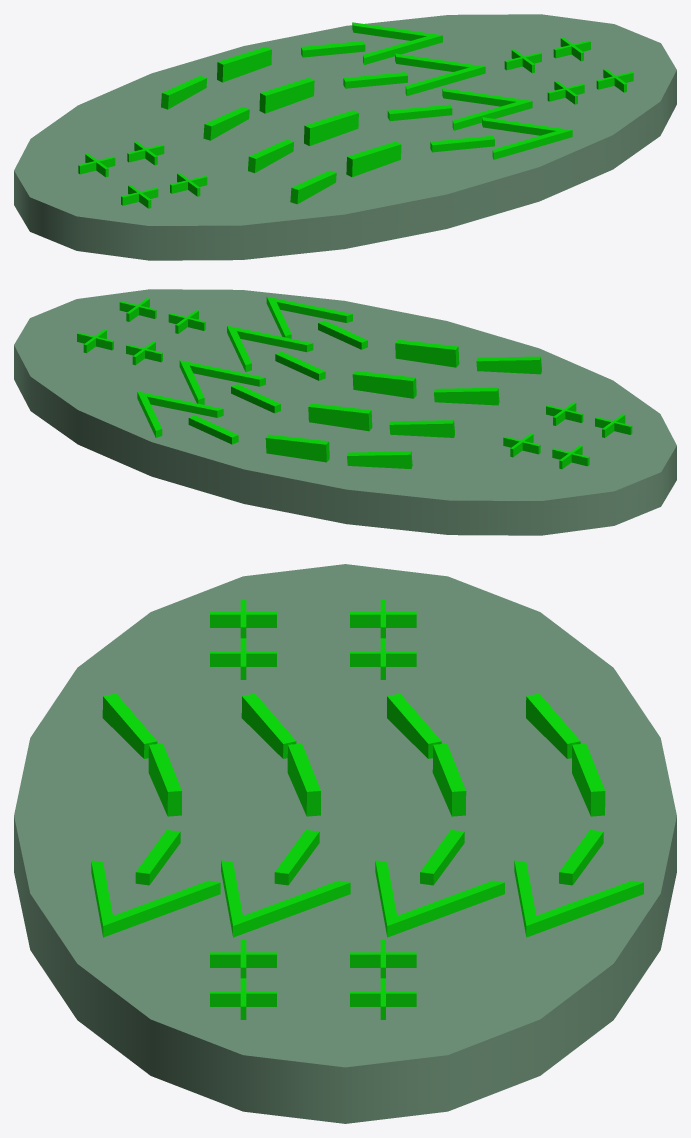
Rendered from dashUpObj.fbx.
The picture shows the model from 3 angles, top to bottom: view 1: azimuth 30°, elevation 25°; view 2: azimuth 150°, elevation 25°; view 3: azimuth 270°, elevation 25°; orthographic projection. The views are drawn at different scales.
Visible parts, largest first — view 1: dashUpObj; view 2: dashUpObj; view 3: dashUpObj.
Boxes of the visible parts, x1,y1,x2,y2 form: dashUpObj: (14, 14, 676, 260); dashUpObj: (14, 289, 676, 535); dashUpObj: (14, 564, 676, 1123).
Bounding box in the file's own units: 0.6115 × 0.0483 × 0.3403.
